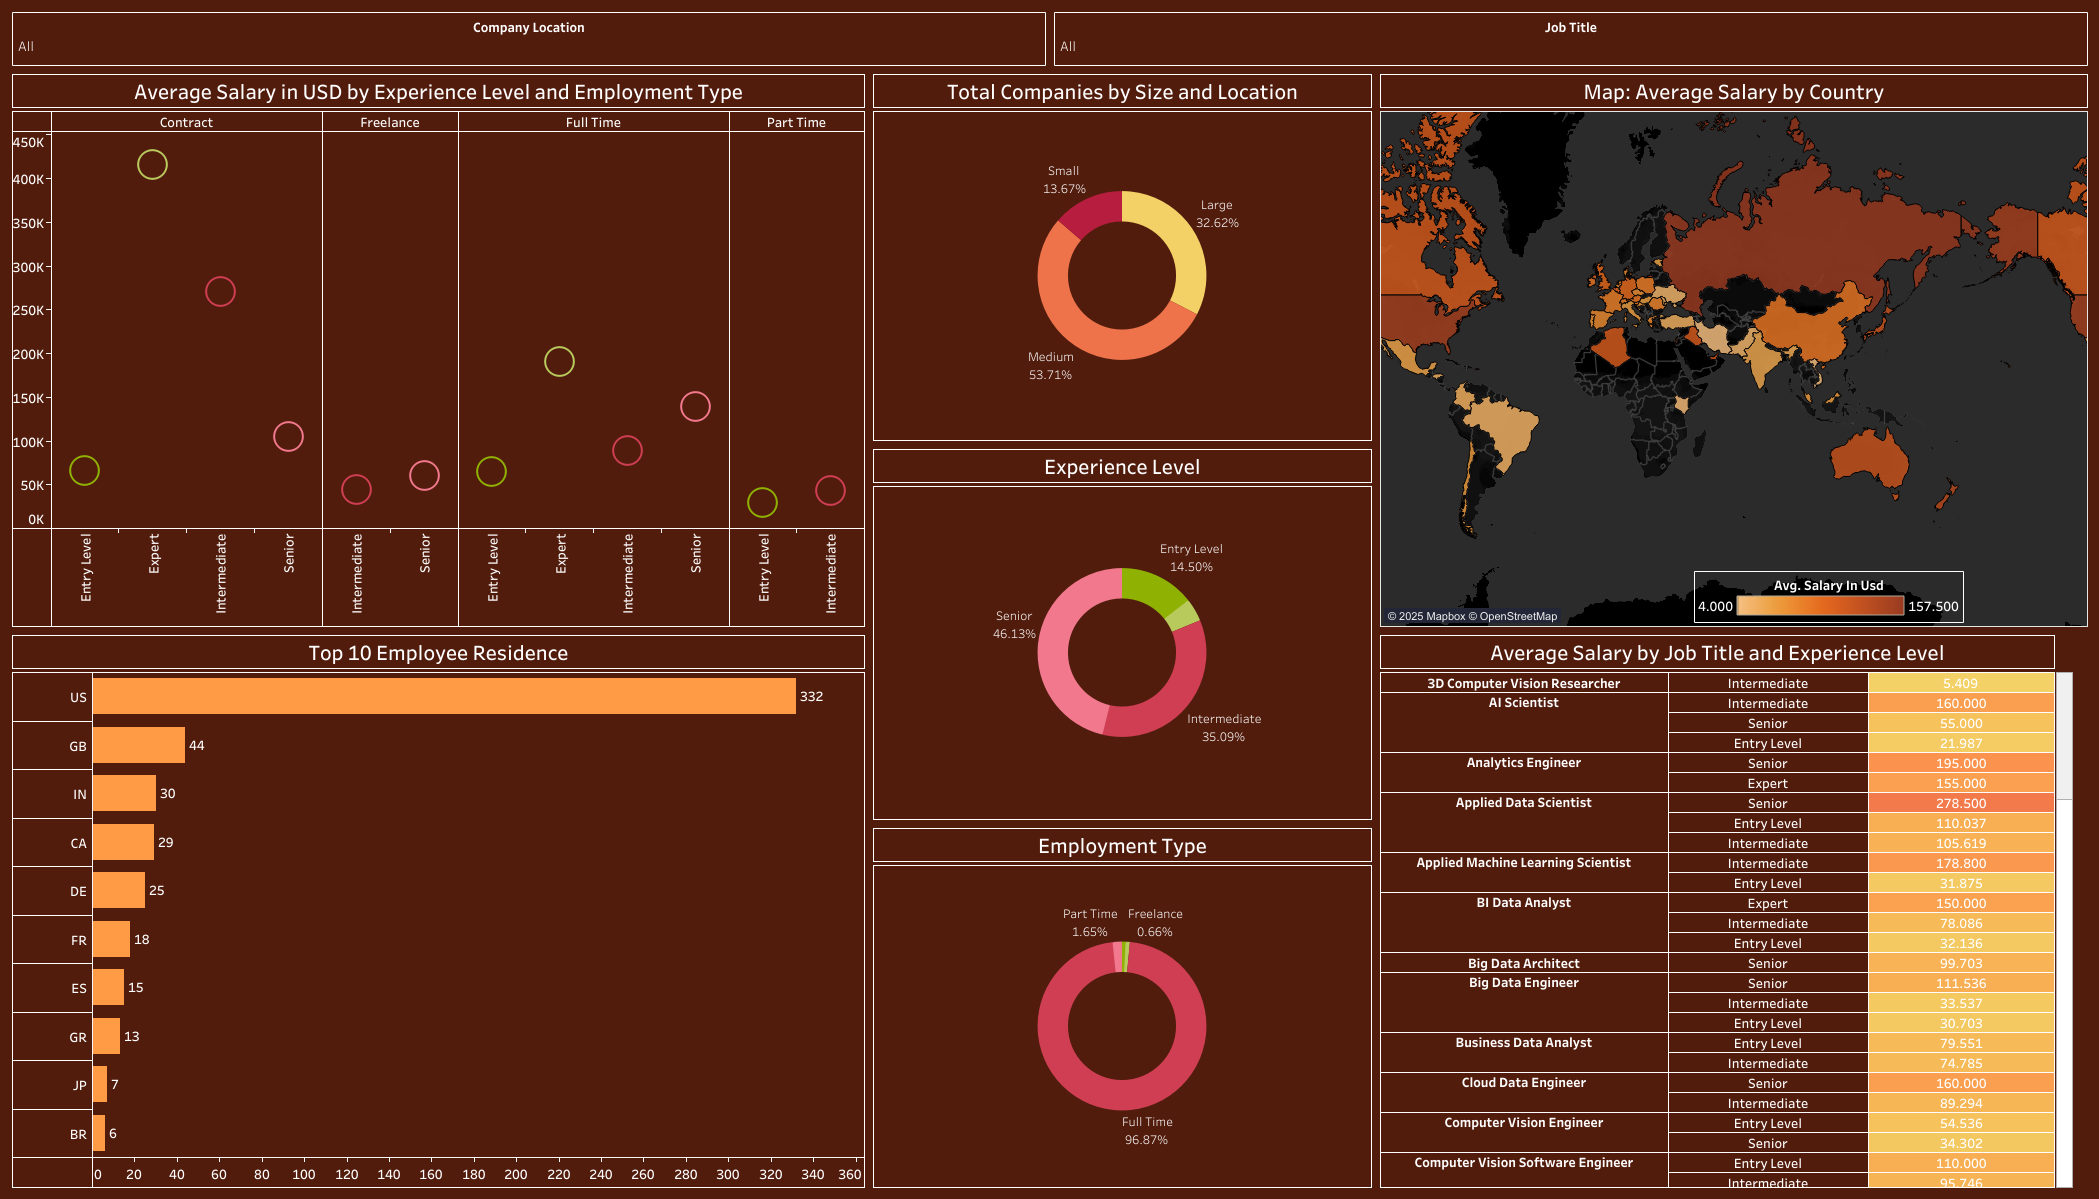

This screenshot's page, from the dashboard's own definition file:
{"tool":"tableau","page":{"name":"Dashboard 1","canvas":[2100,1200],"ordinal":0},"visuals":[{"type":"filter","title":"Total Companies by Size and Location","param":"[federated.1dh137b0zfg22a192jxc10daoky5].[none:company_location:nk]","box":[8,8,1042,61]},{"type":"filter","title":"Map: Average Salary by Country","param":"[federated.1dh137b0zfg22a192jxc10daoky5].[none:job_title:nk]","box":[1050,8,1042,62]},{"type":"worksheet","title":"Average Salary in USD by Experience Level and Employment Type","mark":"Shape","rows":["salary_in_usd"],"cols":["employment_type","experience_level"],"box":[8,70,861,561]},{"type":"worksheet","title":"Total Companies by Size and Location","mark":"Pie","rows":["Calculation_466685528278626305","Calculation_466685528279080963"],"box":[869,70,507,375.3]},{"type":"worksheet","title":"Map: Average Salary by Country","mark":"Automatic","box":[1376,70,716,561]},{"type":"worksheet","title":"Experience Level","mark":"Pie","rows":["Calculation_466685528278626305","Calculation_466685528279080963"],"box":[869,445.3,507,378.4]},{"type":"legend","title":"Map: Average Salary by Country","param":"[federated.1dh137b0zfg22a192jxc10daoky5].[avg:salary_in_usd:qk]","box":[1694,571,270,52]},{"type":"worksheet","title":"Top 10 Employee Residence","mark":"Automatic","rows":["employee_residence"],"cols":["employee_residence"],"box":[8,631,861,561]},{"type":"worksheet","title":"Average Salary by Job Title and Experience Level","mark":"Square","rows":["job_title","experience_level"],"box":[1376,631,716,561]},{"type":"worksheet","title":"Employment Type","mark":"Pie","rows":["Calculation_466685528278626305","Calculation_466685528279080963"],"box":[869,823.7,507,368.3]}]}

Visuals, with their boxes in screenshot pixels (x1, y1, x2, y2), scaled from the page's 2100x1200 canvas onto the 2099x1199 screenshot:
"Total Companies by Size and Location" filter: box=[8, 8, 1050, 69]
"Map: Average Salary by Country" filter: box=[1050, 8, 2091, 70]
"Average Salary in USD by Experience Level and Employment Type" worksheet (Shape marks): box=[8, 70, 869, 630]
"Total Companies by Size and Location" worksheet (Pie marks): box=[869, 70, 1375, 445]
"Map: Average Salary by Country" worksheet: box=[1375, 70, 2091, 630]
"Experience Level" worksheet (Pie marks): box=[869, 445, 1375, 823]
"Map: Average Salary by Country" legend: box=[1693, 571, 1963, 622]
"Top 10 Employee Residence" worksheet: box=[8, 630, 869, 1191]
"Average Salary by Job Title and Experience Level" worksheet (Square marks): box=[1375, 630, 2091, 1191]
"Employment Type" worksheet (Pie marks): box=[869, 823, 1375, 1191]
